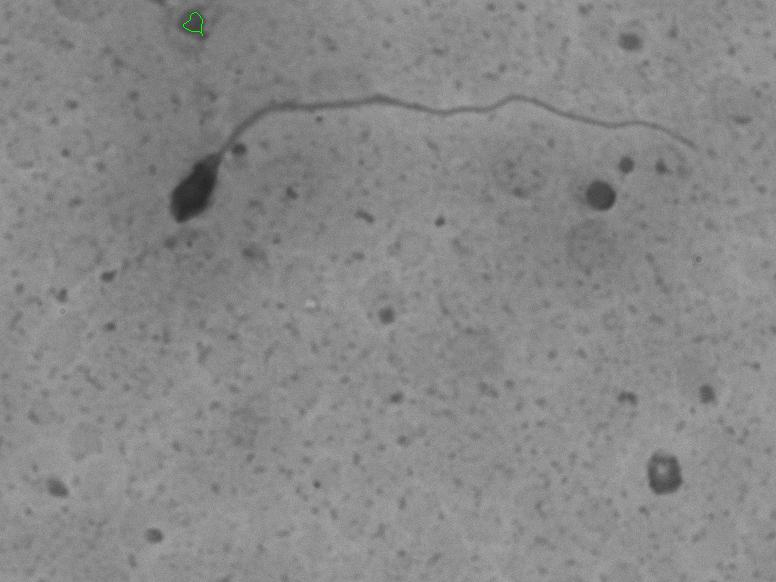Abnormal: (143, 60, 740, 257)
